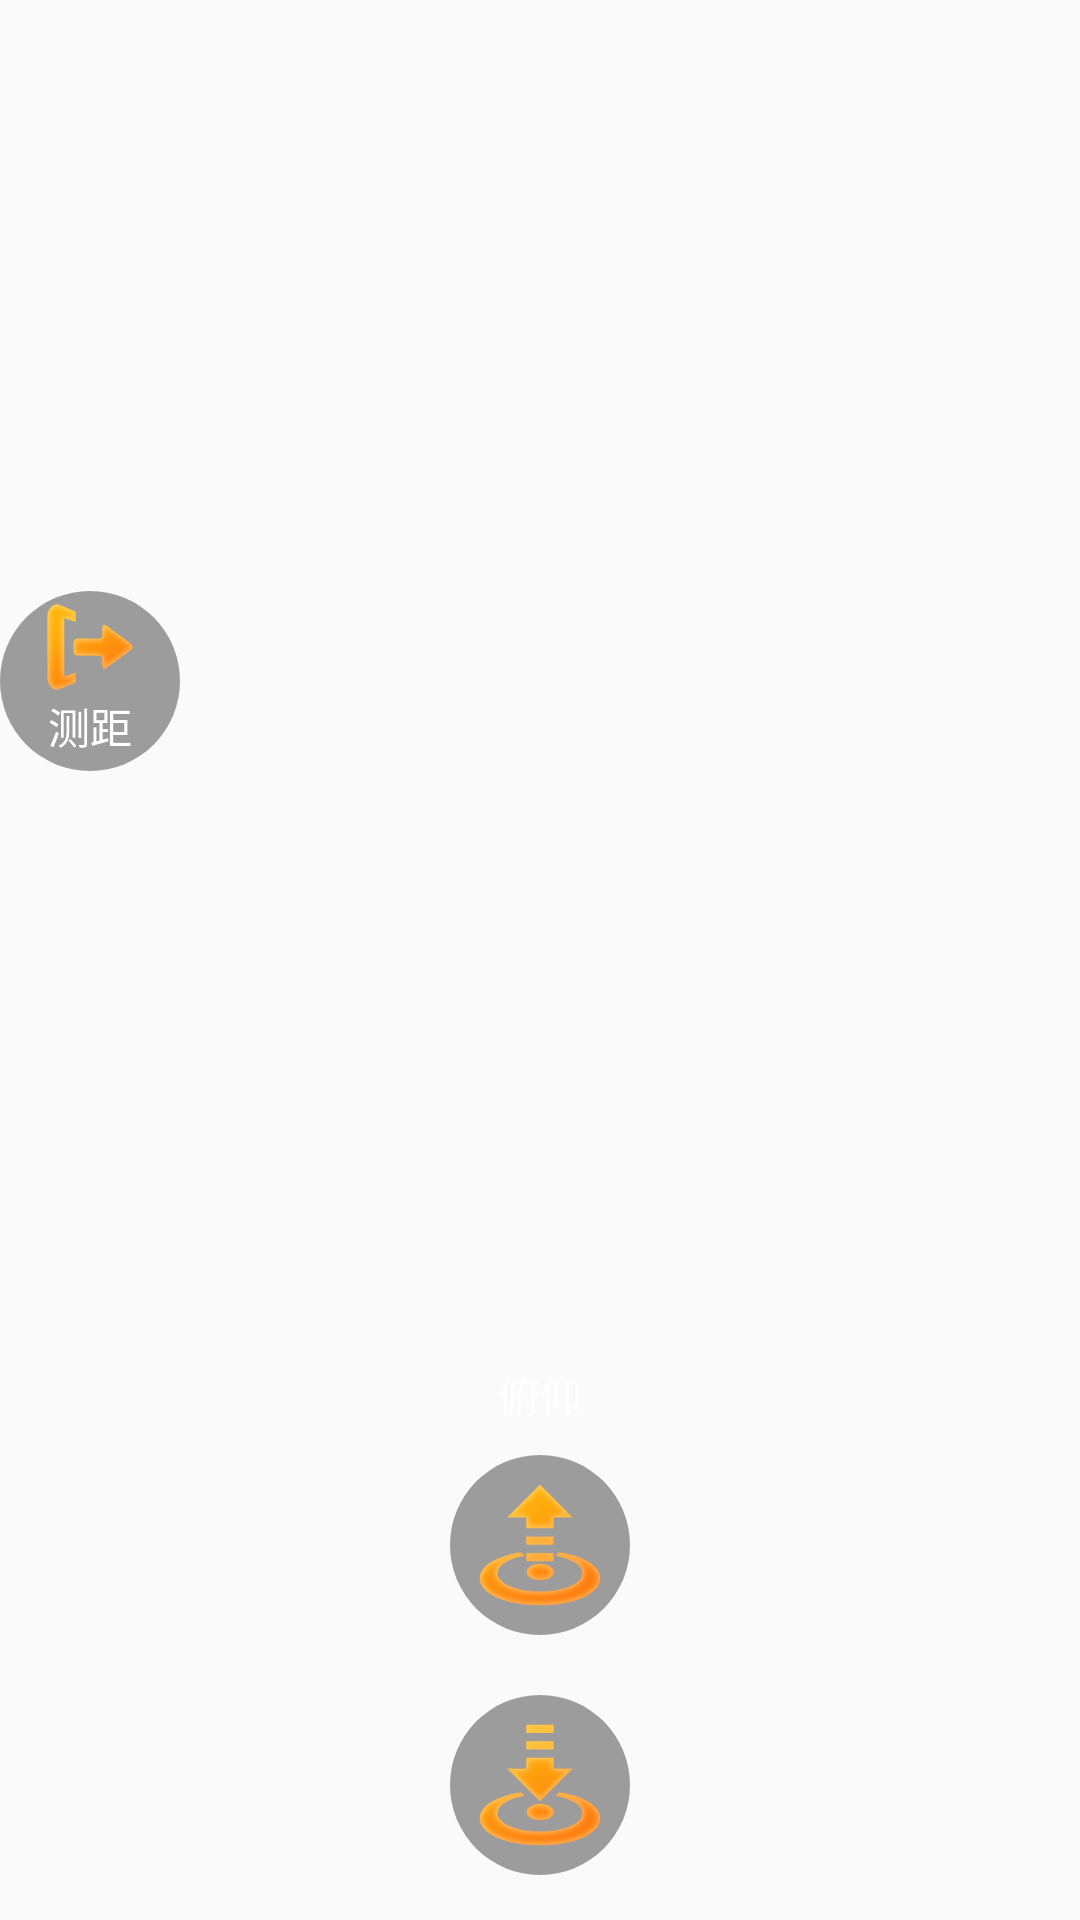

Screen size 1080×1920. Icon name, then its center in pixels as (x,y):
down: (540,1785)
hozontal: (90,647)
